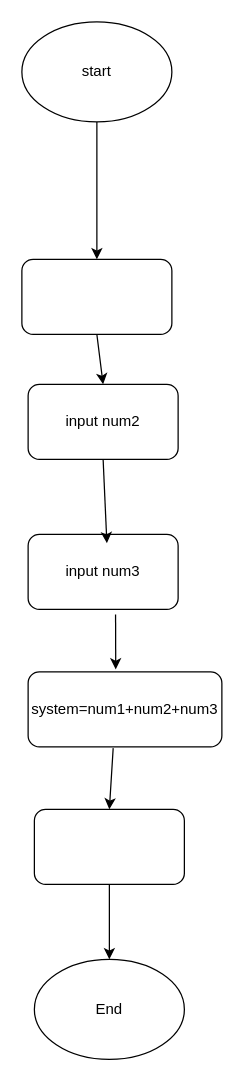
Some shapes in this 244 by 1081 pixel diagram are drawn without their labels. Here are the shapes that lost their labels. From the top down, the box of each, then its label:
(21, 258, 172, 334): input num1
(33, 808, 184, 884): output"sum=sum"
